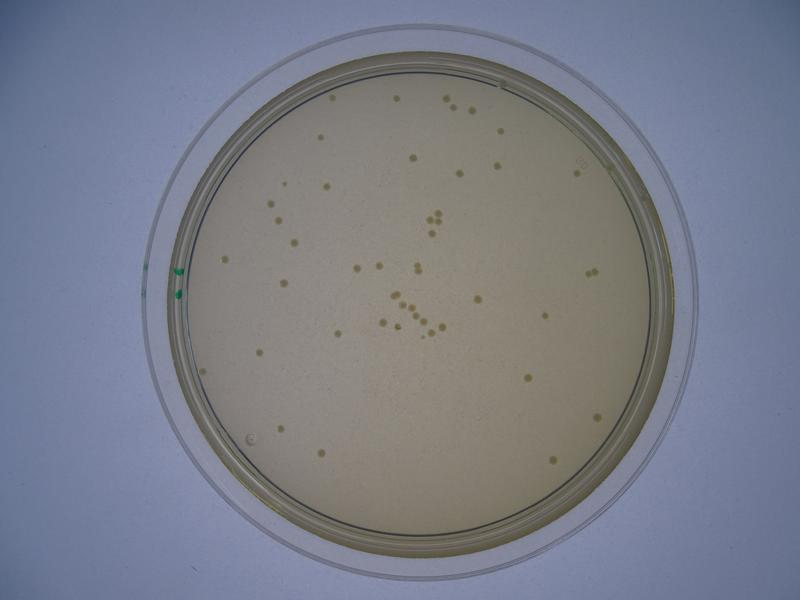colony: (521, 368, 534, 389), (451, 165, 465, 184), (275, 276, 292, 290), (287, 234, 301, 251), (351, 259, 364, 277), (571, 164, 585, 180), (218, 253, 230, 271), (314, 447, 330, 460), (274, 421, 287, 437), (375, 313, 387, 330), (319, 179, 333, 193), (472, 291, 485, 306), (488, 159, 503, 172), (404, 153, 420, 165), (588, 410, 604, 422), (251, 345, 264, 358), (540, 310, 554, 322), (391, 92, 405, 103), (496, 124, 507, 137), (467, 103, 478, 116), (546, 454, 556, 467), (316, 130, 325, 144), (333, 328, 344, 339), (272, 217, 285, 226), (265, 197, 275, 208), (375, 258, 383, 271)
